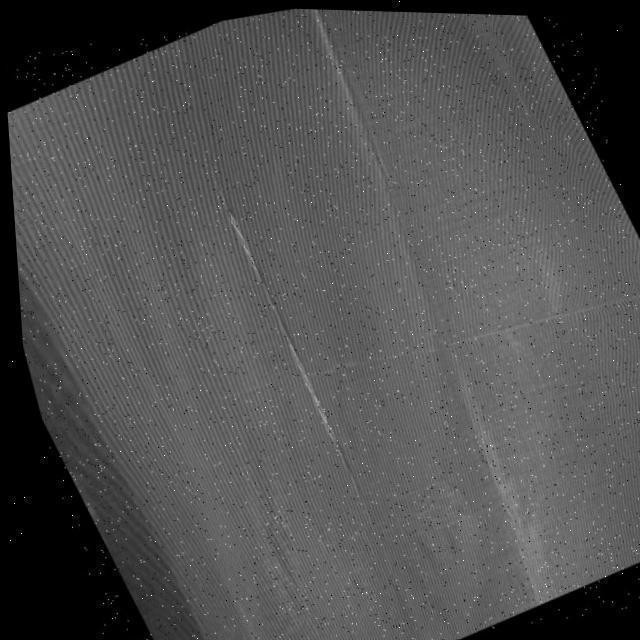pulled_or_thick_thread: (210, 168, 362, 512)
